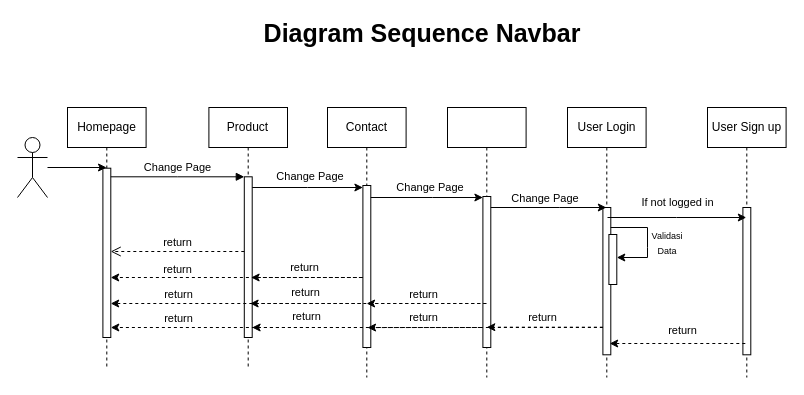
Image size: 804x395. Some labels were removed from this diagram. The box of each missing label's shape, as (x1, y1, x2, y2) in pixels:
About: (446, 106, 526, 378)
User: (16, 136, 48, 198)
